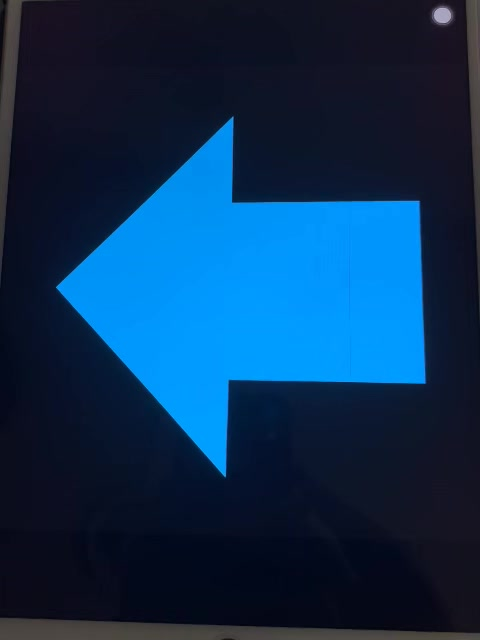left: (48, 110, 431, 479)
